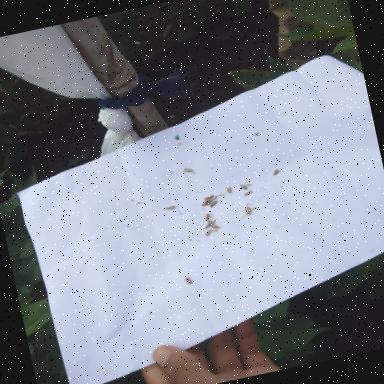pbw: (202, 218, 214, 228), (181, 164, 193, 174), (244, 204, 253, 214), (184, 275, 193, 284), (208, 199, 218, 207), (164, 204, 176, 210), (202, 197, 214, 203), (239, 182, 247, 190), (204, 228, 213, 235), (210, 223, 220, 229), (225, 184, 232, 192), (204, 212, 210, 221), (272, 168, 280, 174), (204, 194, 214, 198)
